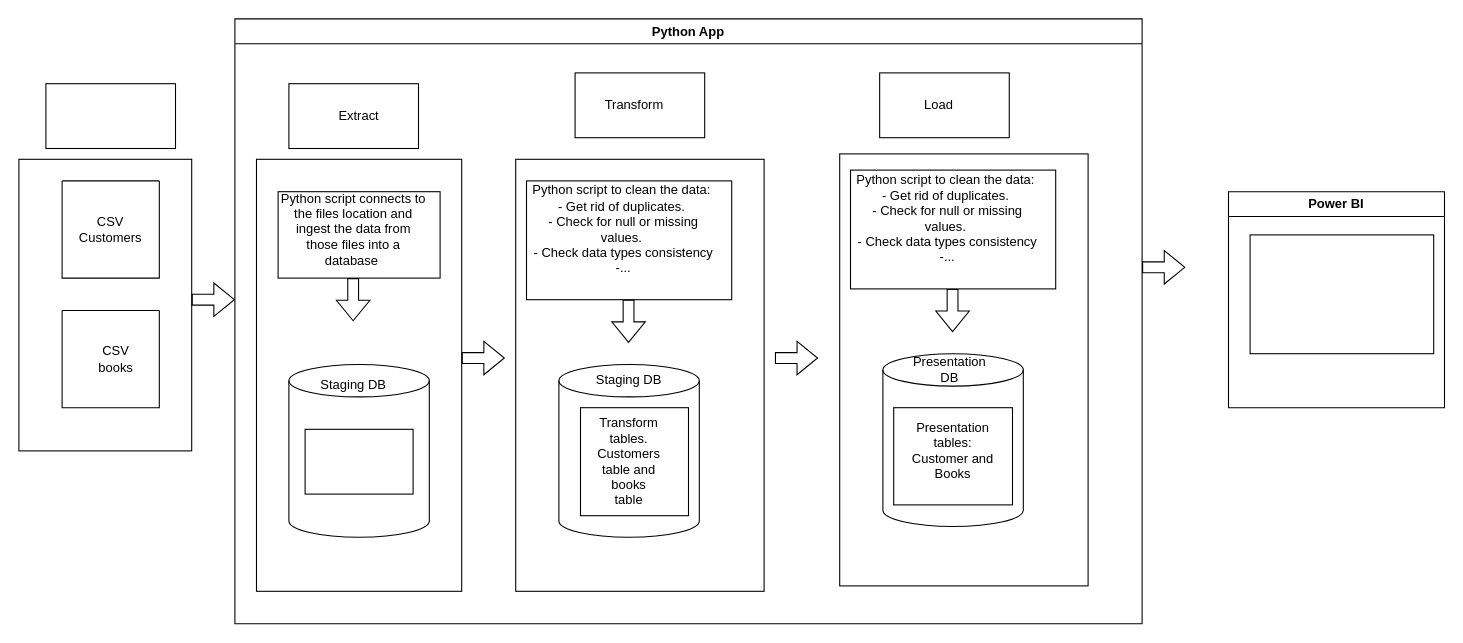
Some shapes in this 1463 by 643 pixel diagram are drawn without their labels. The box of each missing label's shape, as (x1, y1, x2, y2) in pixels:
Data modelling and presentation: (1249, 234, 1434, 354)
Extract tables: (304, 428, 413, 494)
SharePoint source: (45, 83, 176, 148)
